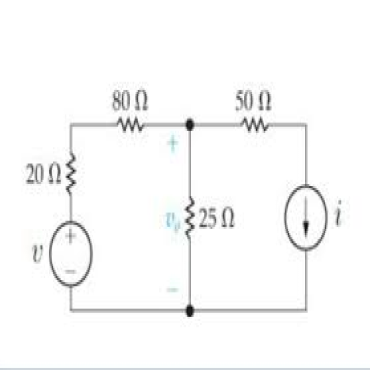Current Source: (283, 184, 343, 255)
Resistor: (183, 191, 236, 244), (25, 151, 78, 194), (234, 86, 274, 135), (112, 89, 148, 132)
Voltage Source: (31, 220, 93, 288)
